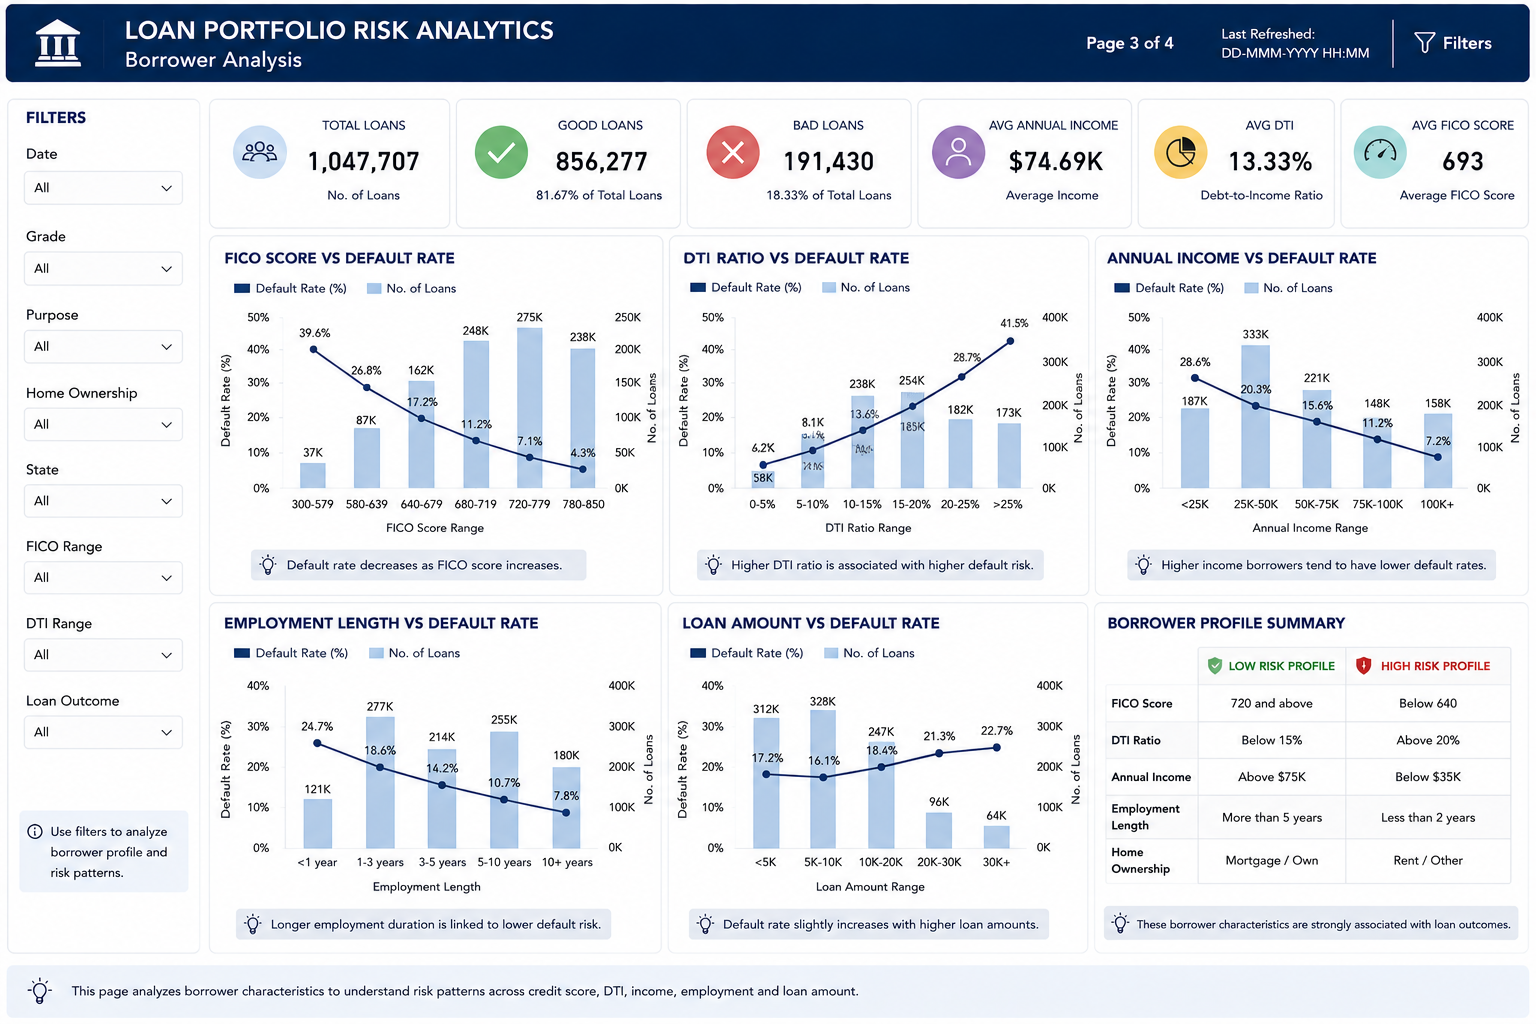

This screenshot's page, from the dashboard's own definition file:
{"tool":"powerbi","page":{"name":"Borrower Analysis","canvas":[1920,1080],"ordinal":2},"visuals":[{"type":"image","box":[10,0,1910,1080],"z":0}]}

Visuals, with their boxes on the page's 1920x1080 design canvas (x1, y1, x2, y2). These are canvas units, not pixel positions in the 1536x1024 screenshot, which may show the page scaled, cropped or inside an application window:
image: 10/0/1920/1080
